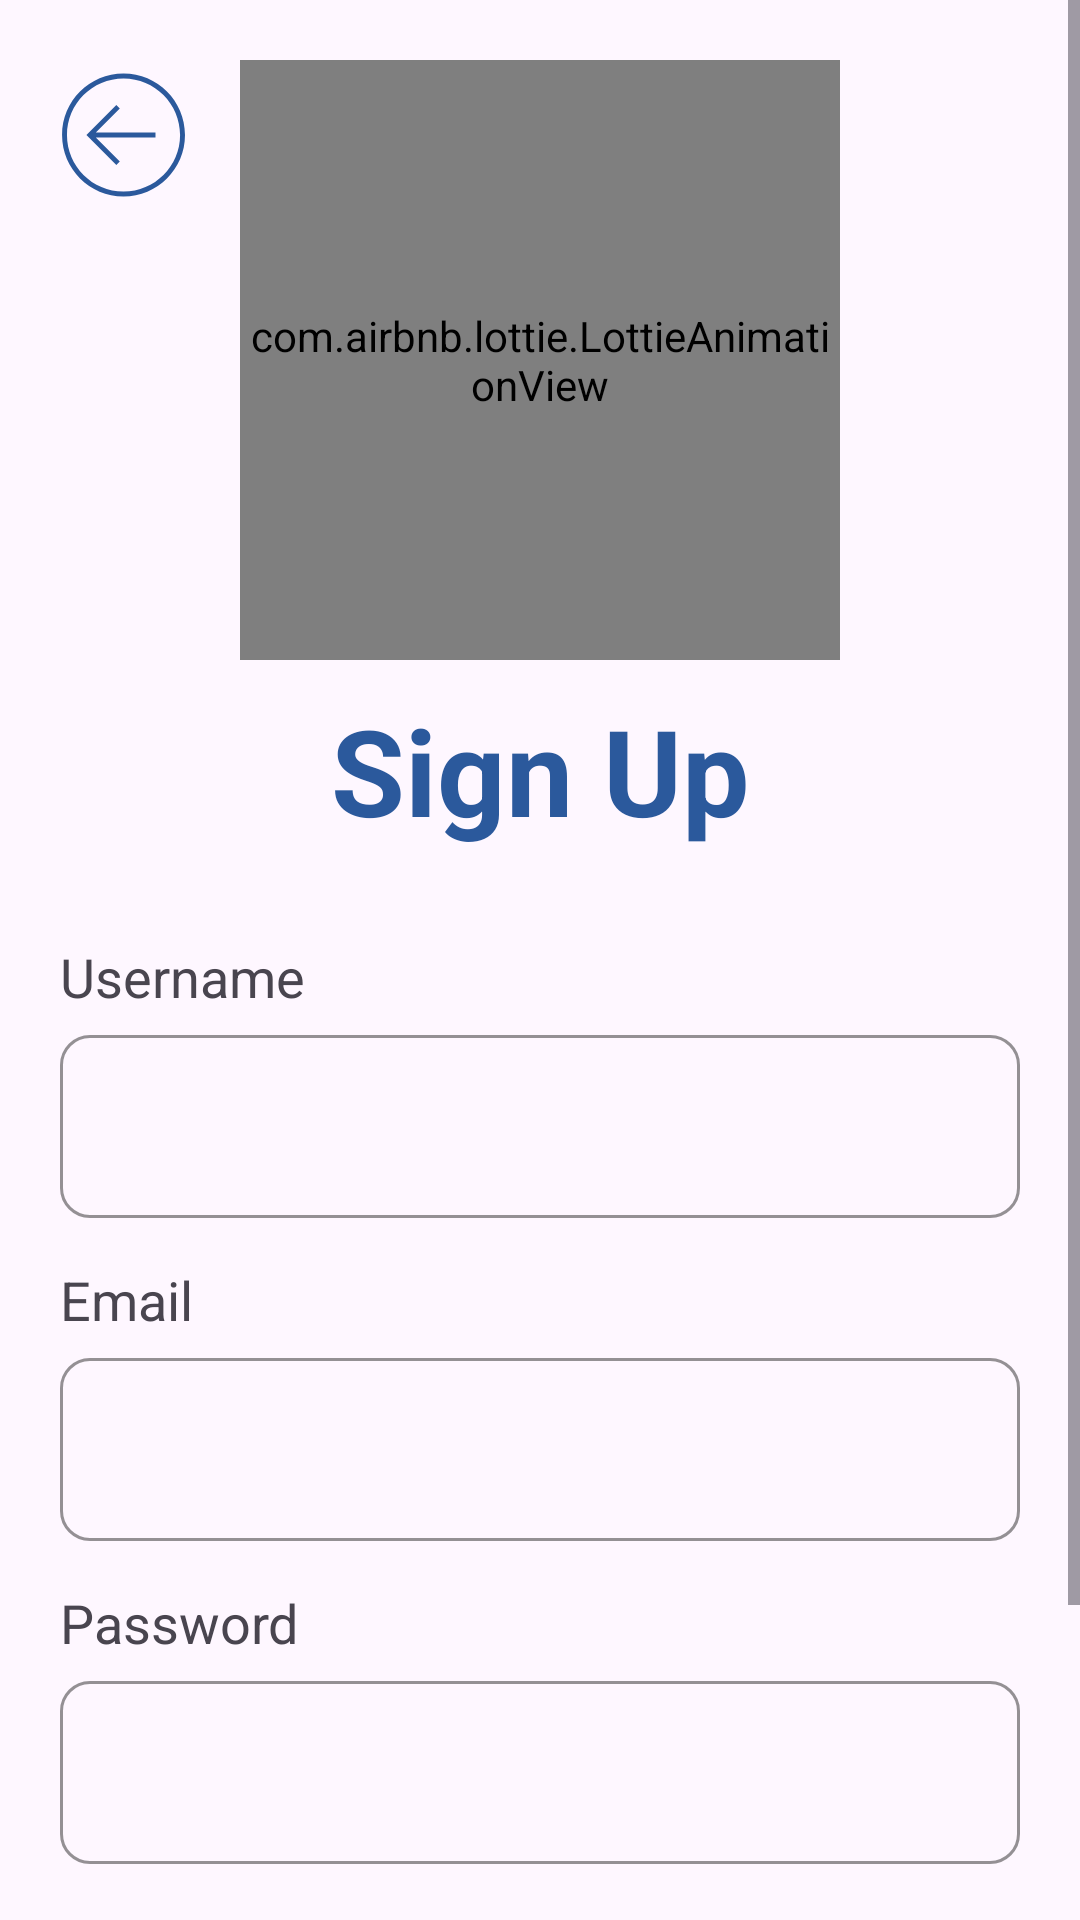

Locate icon controls on the screen. Image size 1080 × 1920, boxes as {"x1": x1, "y1": y1, "x2": x2, "y2": y2}.
left arrow: {"x1": 62, "y1": 73, "x2": 185, "y2": 197}
